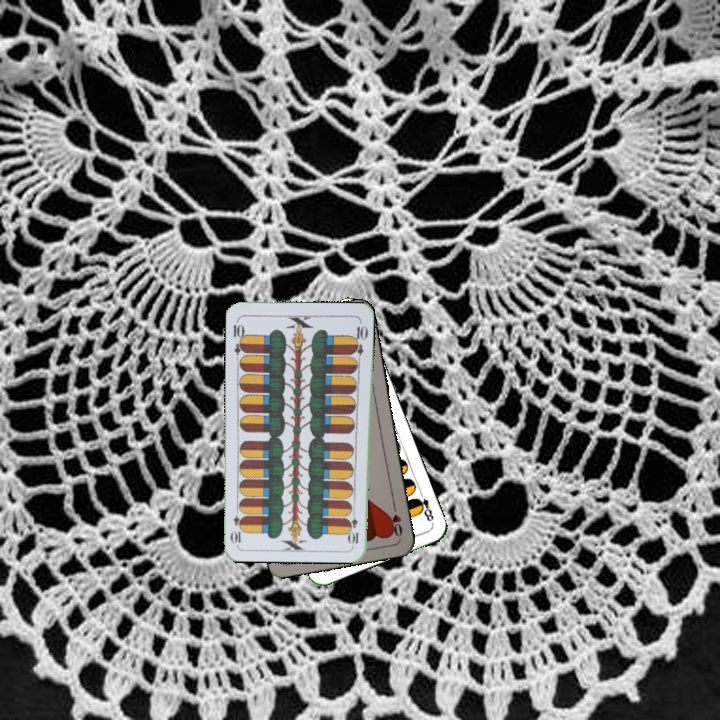E10: (229, 316, 248, 357), (347, 506, 361, 547)
E8: (412, 487, 436, 524)
HO: (386, 500, 405, 539)
